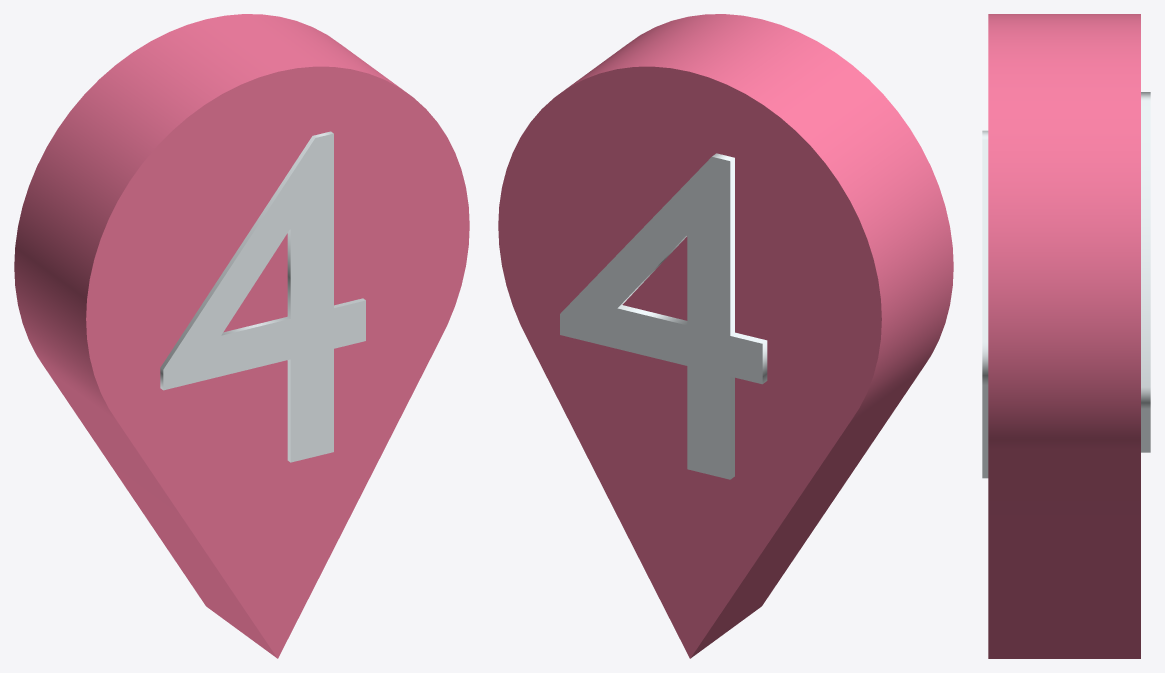
The model's file is sande_point_a.glb.
3 views of the same model, side by side, from view 1: azimuth 30°, elevation 25°; view 2: azimuth 150°, elevation 25°; view 3: azimuth 270°, elevation 25° (orthographic). The views are drawn at different scales.
Parts seen in each view (by area): view 1: 円.003, テキスト.006; view 2: 円.003, テキスト.005; view 3: 円.003, テキスト.005, テキスト.006.
Boxes of the visible parts, left/top/right/bottom form: 円.003: left=14, top=14, right=469, bottom=658; テキスト.006: left=160, top=131, right=365, bottom=462; 円.003: left=498, top=14, right=953, bottom=658; テキスト.005: left=560, top=153, right=767, bottom=479; 円.003: left=988, top=14, right=1140, bottom=658; テキスト.005: left=1141, top=92, right=1150, bottom=452; テキスト.006: left=982, top=130, right=988, bottom=478.
Bounding box in the file's own units: 2 × 2.92 × 0.7172.
3 materials, 3 textured.
